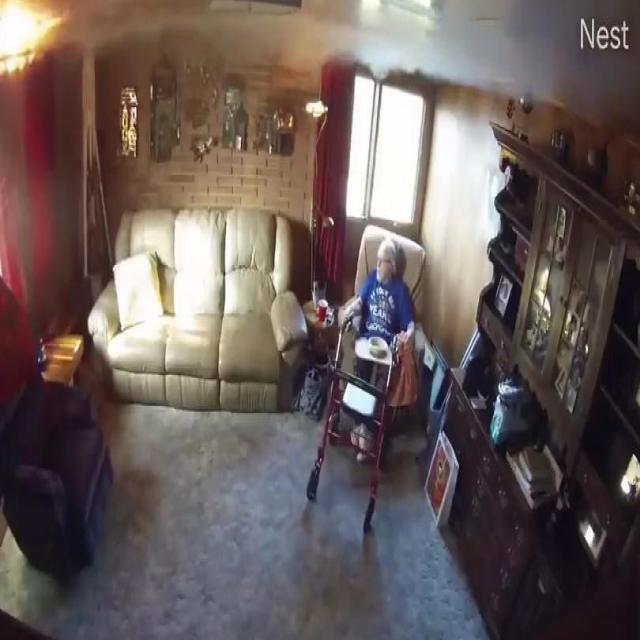fire: (357, 12, 640, 112), (79, 0, 348, 82)
smoke: (0, 7, 69, 78)
